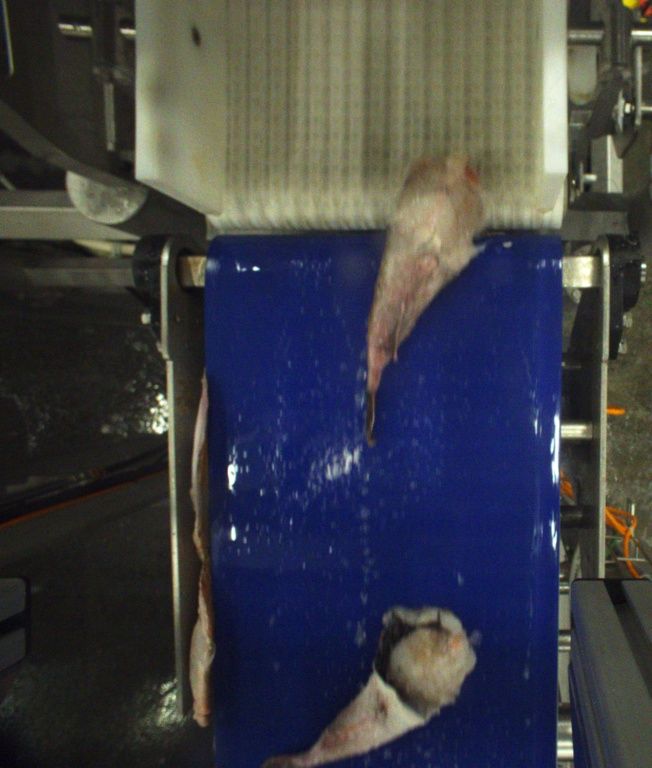ANF: (262, 609, 481, 768)
